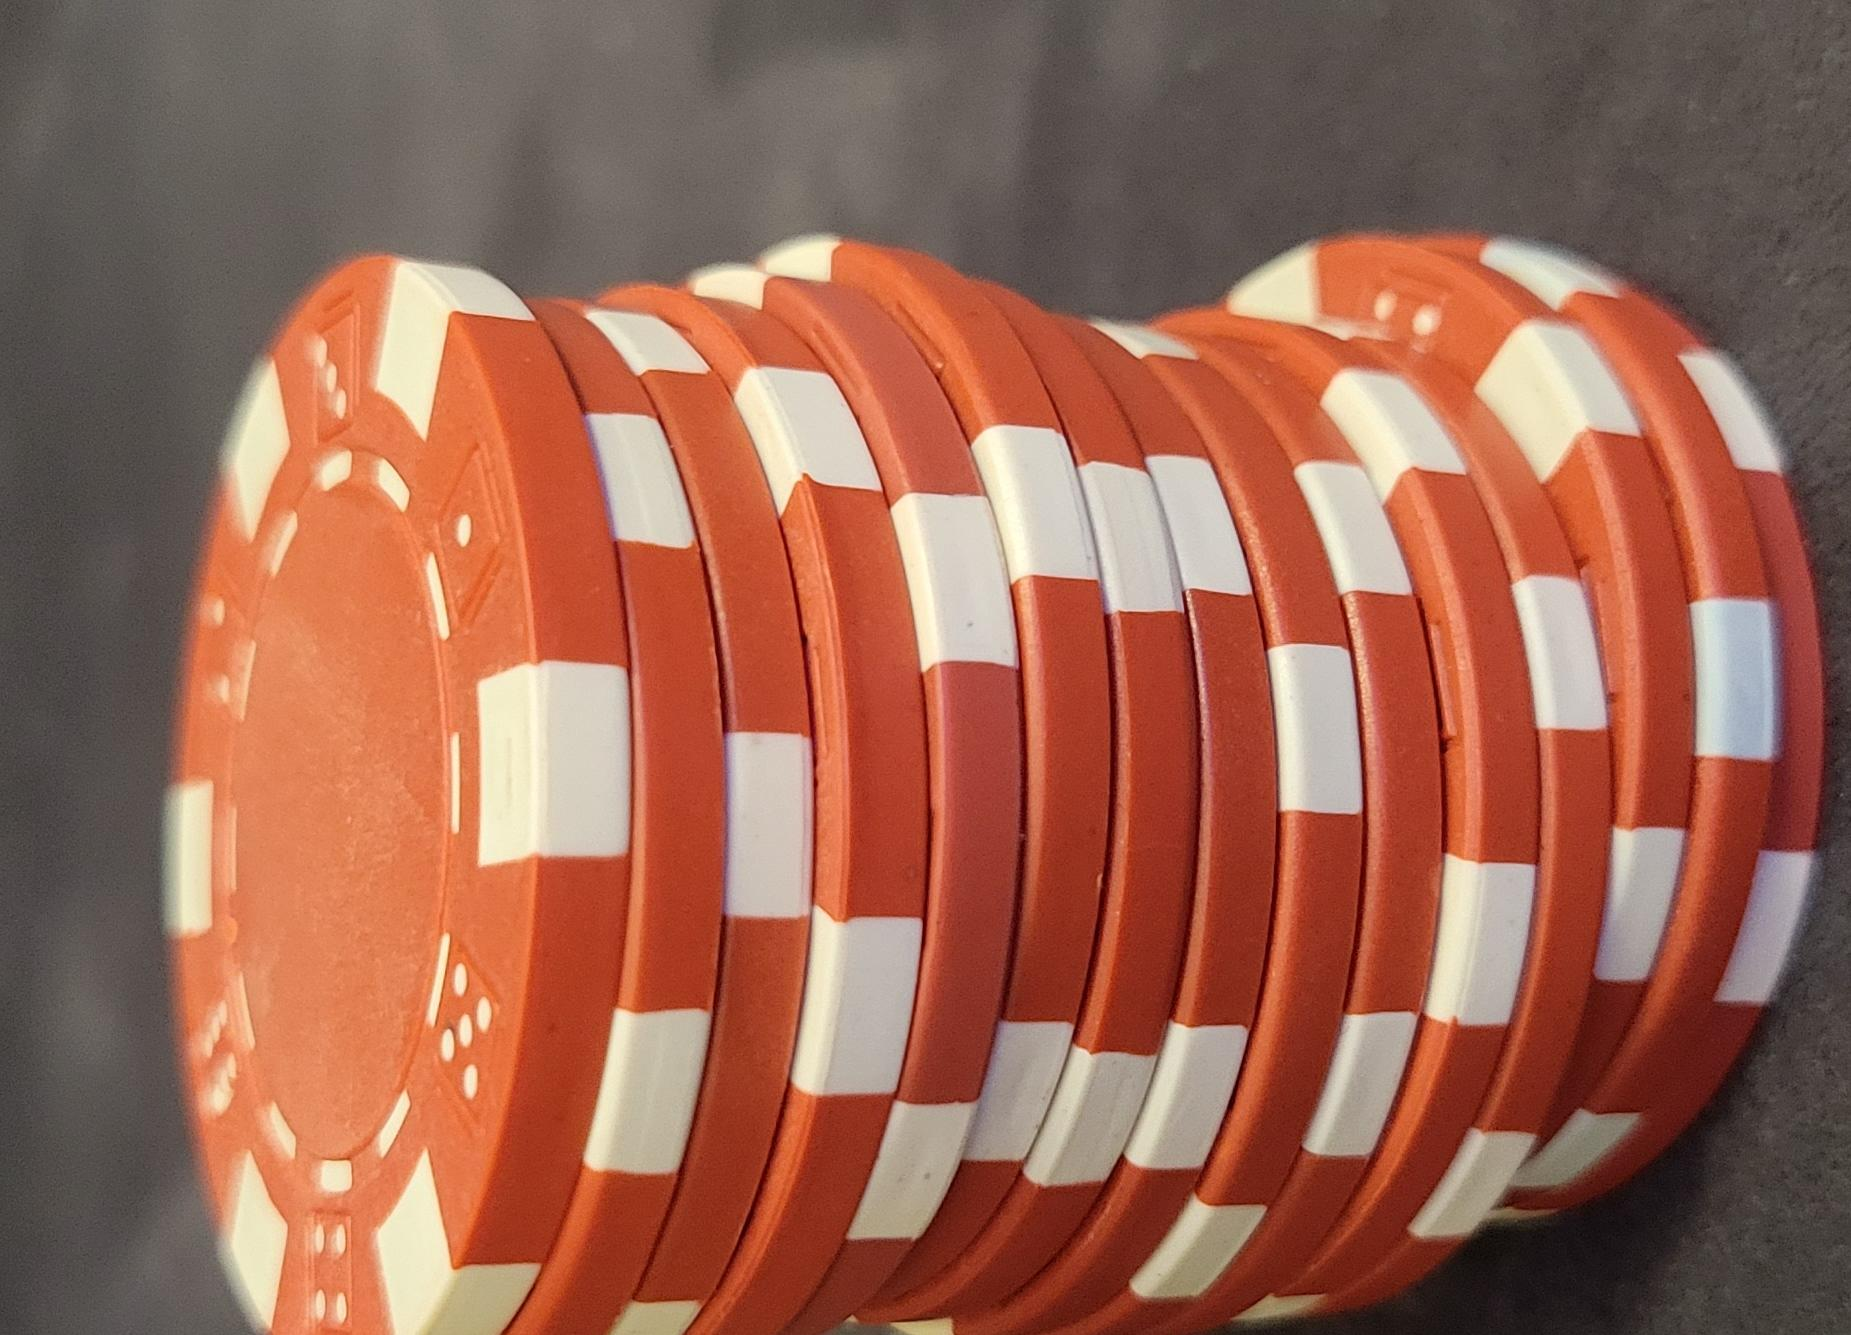Chip: (1, 257, 1141, 1335)
